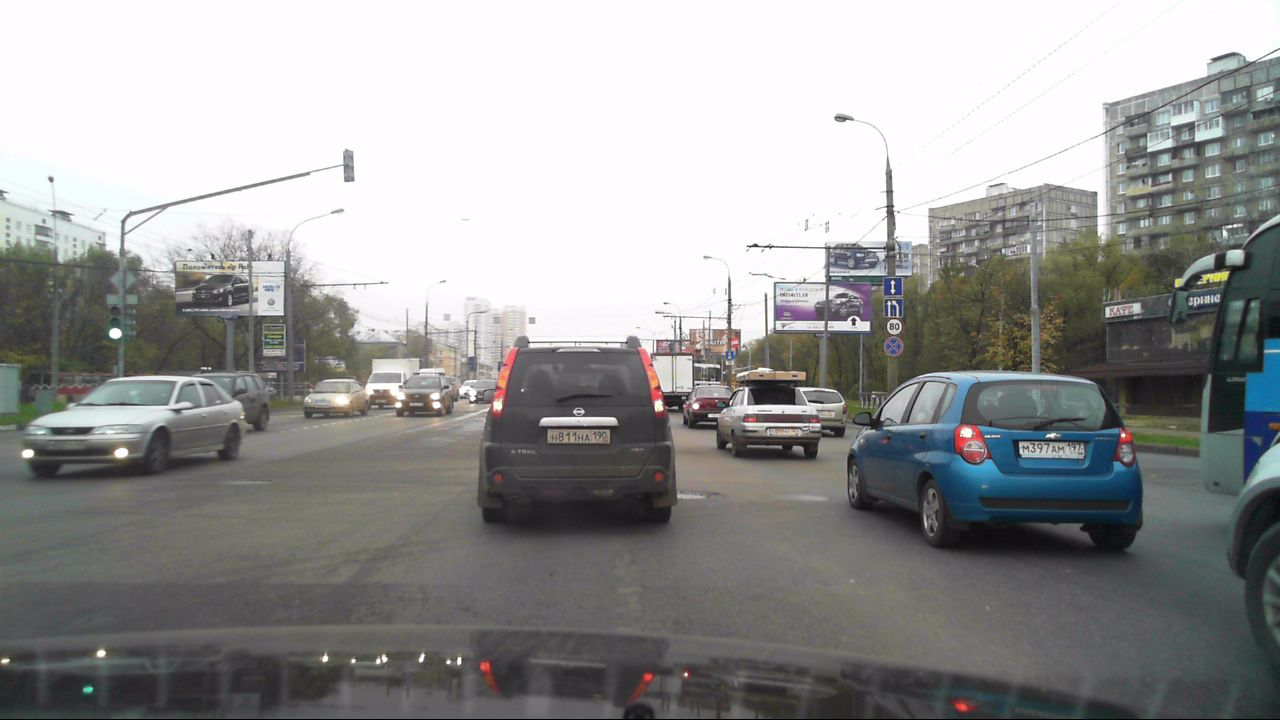No Parking: (883, 336, 903, 358)
